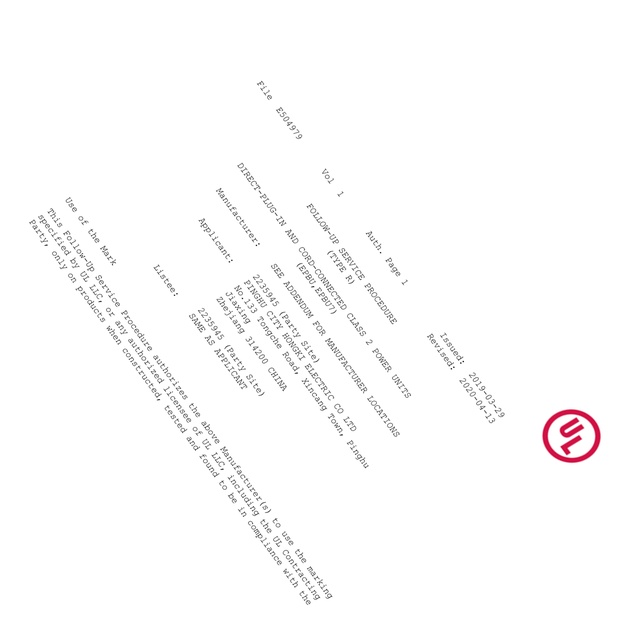ul: (542, 407, 602, 463)
